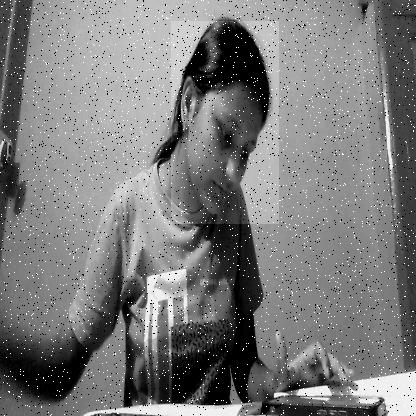Distracted: (171, 21, 279, 224)
